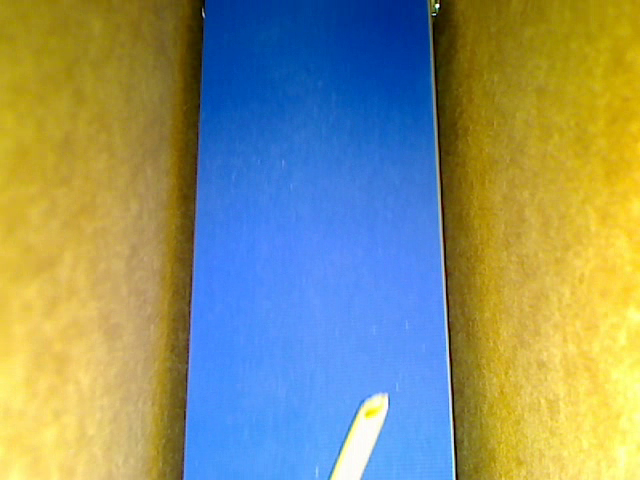penne: (328, 392, 389, 479)
